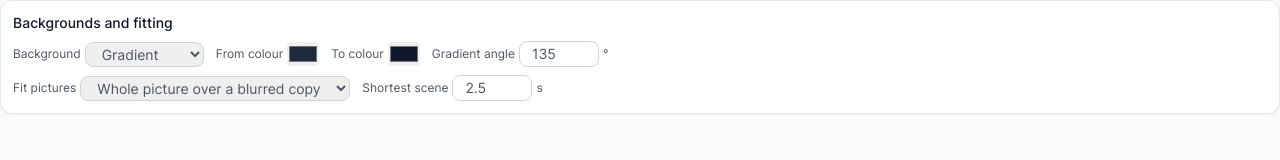
the project-wide settings sections › looks: a gradient, a solid colour, and how pictures are fitted
This screenshot has width=1280, height=160.
Step 1. Replace the text in the number field labelled "Gradient angle" with "90" → x=559, y=54, box x1=519 y1=41 x2=599 y2=67
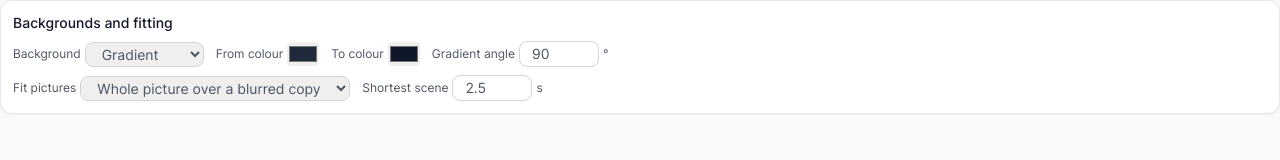
Step 2. Select "Fill the frame, trim the edges" in the dropdown labelled "Fit pictures" → x=215, y=88, box x1=80 y1=76 x2=350 y2=100
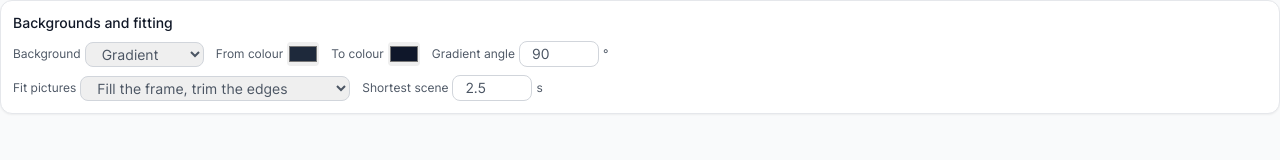
Step 3. Select "One colour" in the dropdown labelled "Background" → x=144, y=54, box x1=85 y1=42 x2=204 y2=66
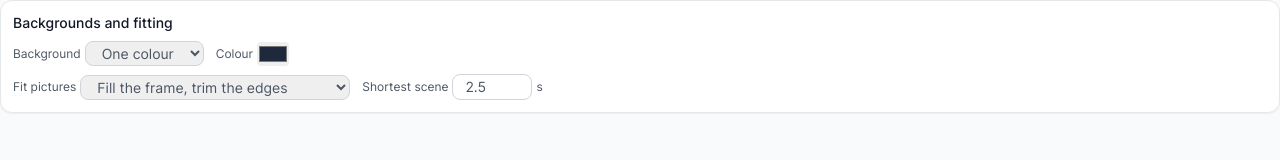
Check: the label labelled "Gradient angle" is gone
